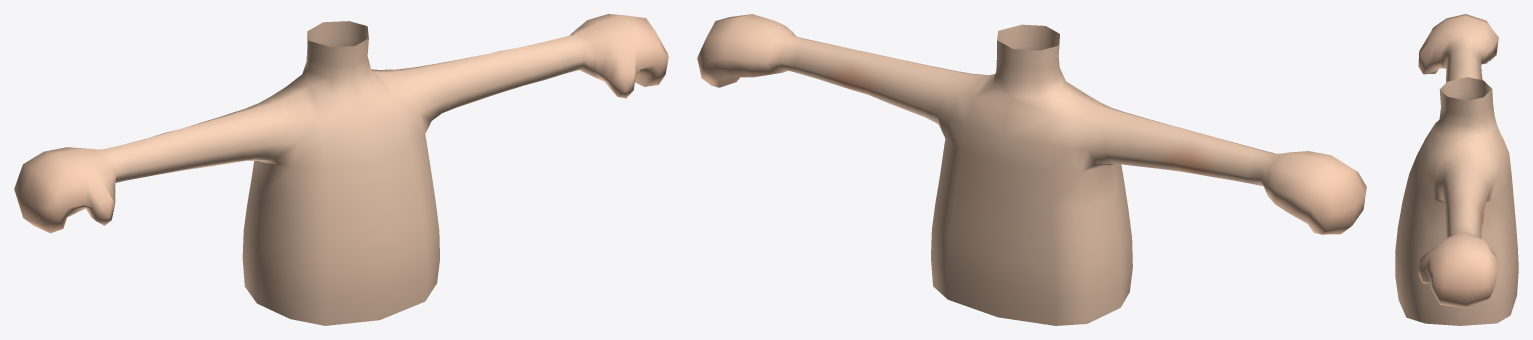
File: Body_White_Top_1.fbx
The picture shows the model from 3 angles, left to right: view 1: azimuth 30°, elevation 25°; view 2: azimuth 150°, elevation 25°; view 3: azimuth 270°, elevation 25°; orthographic projection. The views are drawn at different scales.
Visible parts, largest first — view 1: Body_White_Top_1; view 2: Body_White_Top_1; view 3: Body_White_Top_1.
Boxes of the visible parts, x1,y1,x2,y2 form: Body_White_Top_1: (14,14,668,325); Body_White_Top_1: (697,14,1366,325); Body_White_Top_1: (1395,14,1518,325).
Bounding box in the file's own units: 130 × 49.84 × 26.46.
